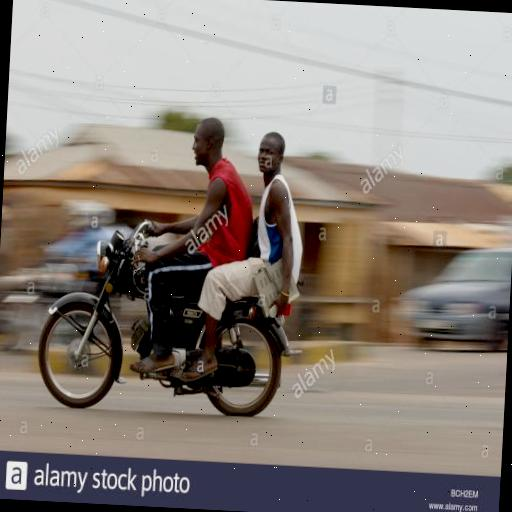no helmet: (138, 92, 251, 258)
